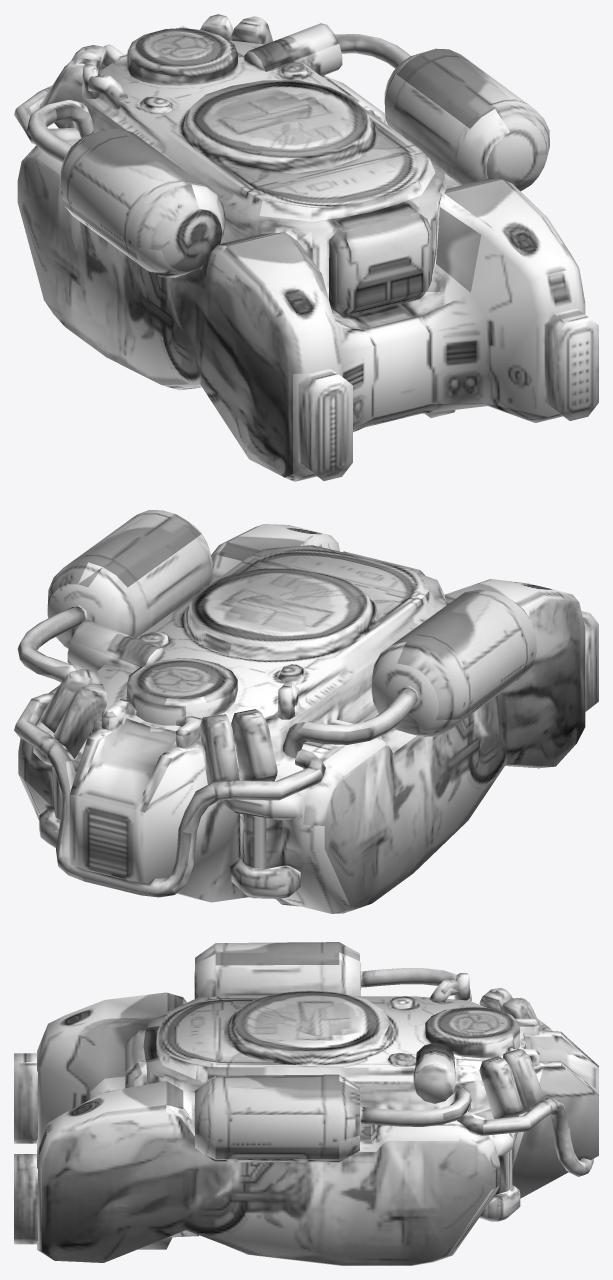
Rendered from body.glb.
3 renders of one model, top to bottom at view 1: azimuth 30°, elevation 25°; view 2: azimuth 150°, elevation 25°; view 3: azimuth 270°, elevation 25°, orthographic. The views are drawn at different scales.
Parts seen in each view (by area): view 1: body; view 2: body; view 3: body.
Part boxes in pixels (box(x1,y1,x2,y2)): body: box(14, 14, 598, 481); body: box(14, 510, 598, 913); body: box(14, 942, 598, 1265).
Bounding box in the file's own units: 5.32 × 3.12 × 7.73.
3 materials, 3 textured.
